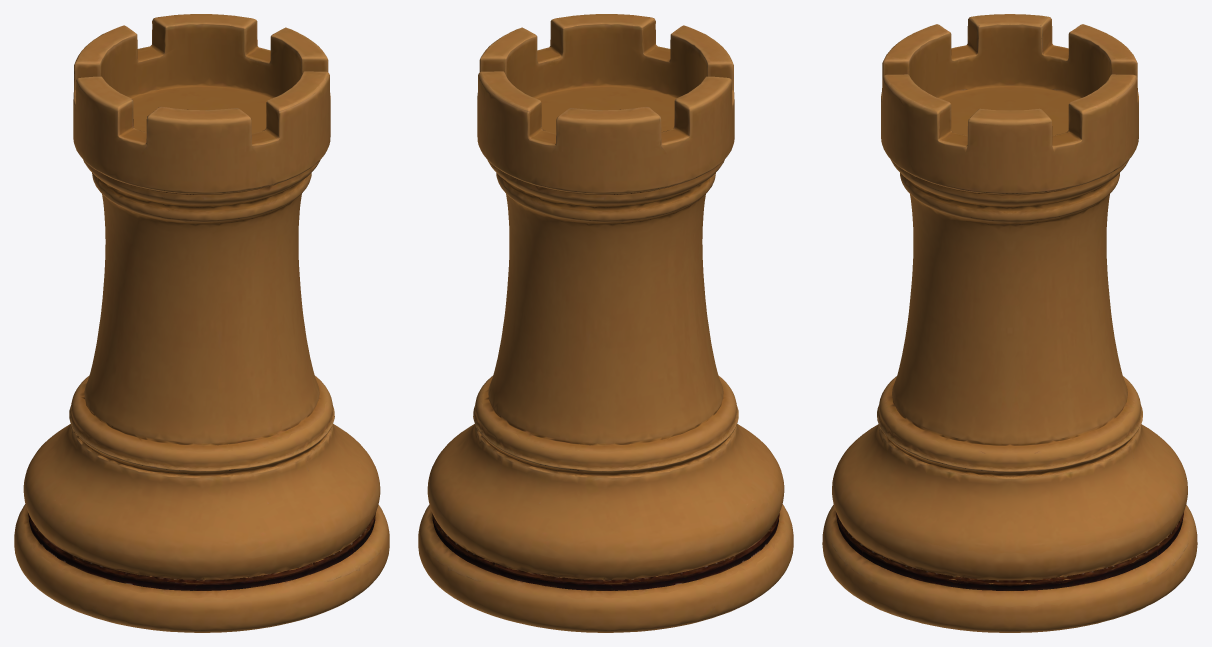
File: 09_rook_light.glb
3 views of the same model, side by side, from view 1: azimuth 30°, elevation 25°; view 2: azimuth 150°, elevation 25°; view 3: azimuth 270°, elevation 25° (orthographic).
Parts seen in each view (by area): view 1: world; view 2: world; view 3: world.
Boxes of the visible parts, <box> form: world: <box>14,14,389,632</box>; world: <box>418,14,793,632</box>; world: <box>822,14,1197,632</box>.
Bounding box in the file's own units: 0.6907 × 1 × 0.6907.
Materials: 1 (1 with a texture image).
